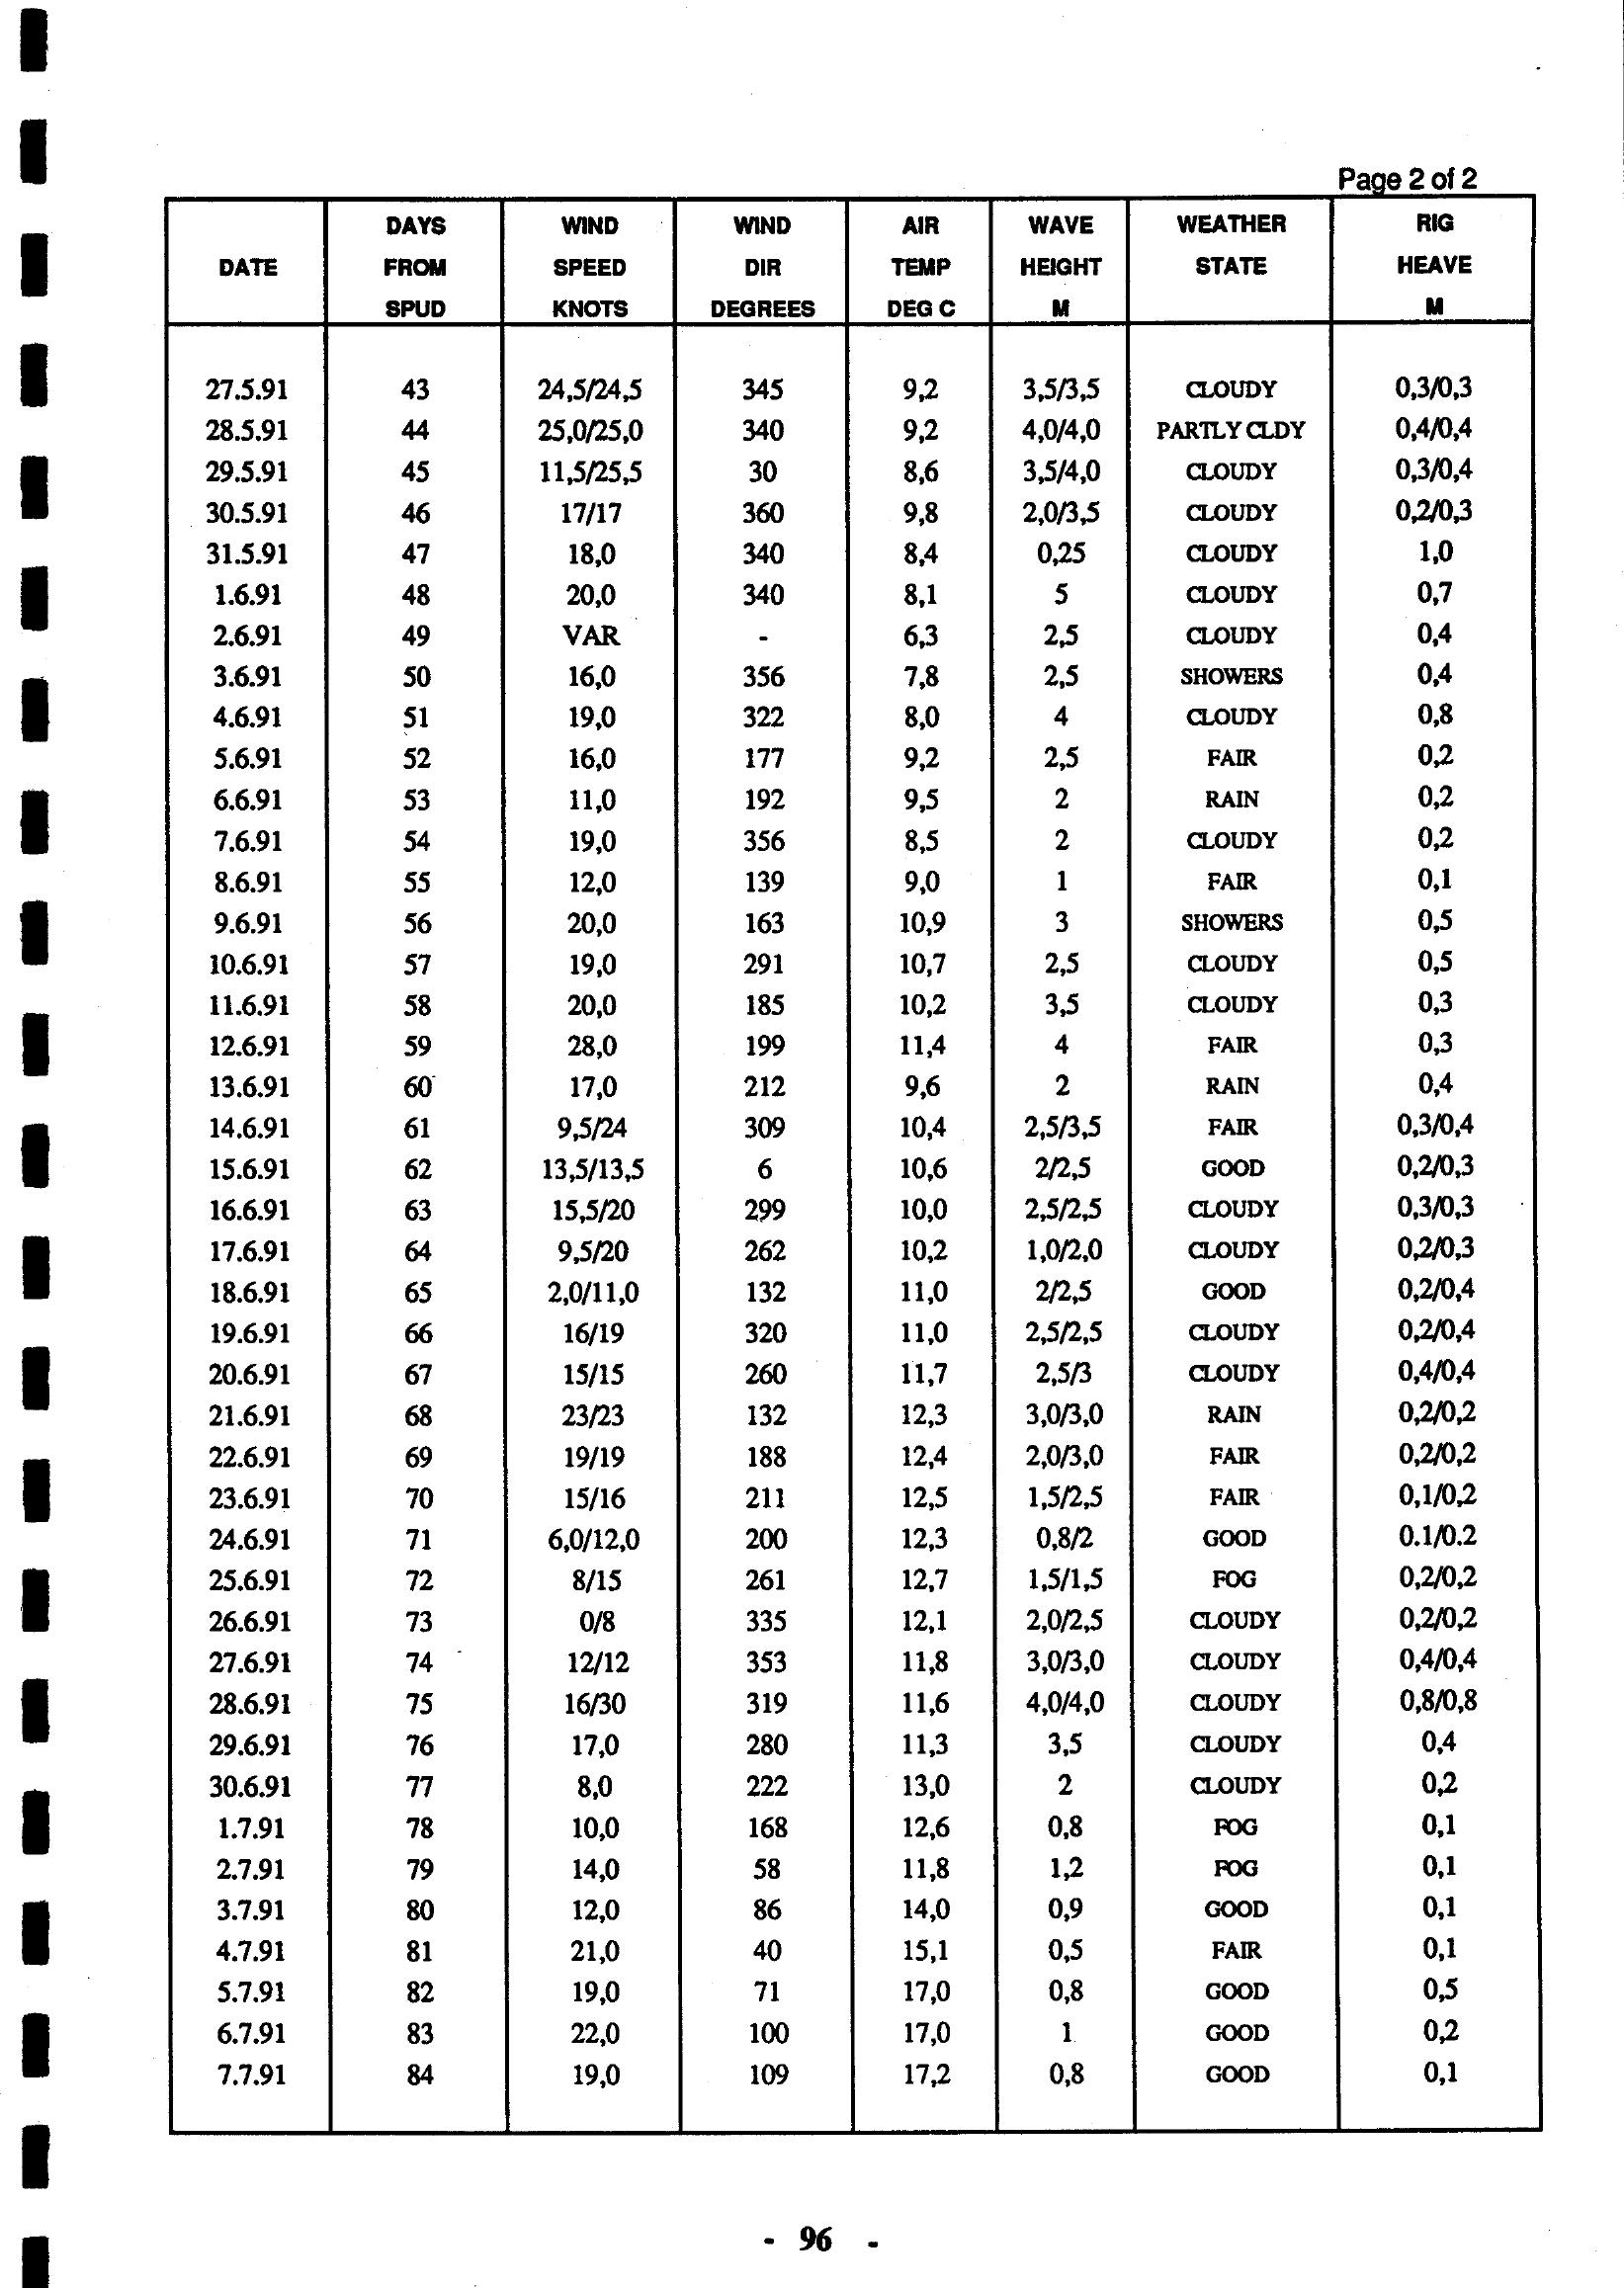table: (139, 139, 1575, 2165)
